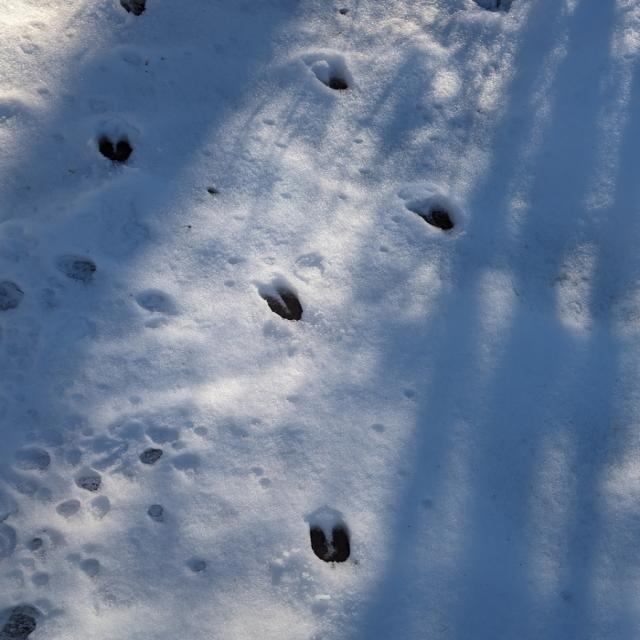deer: (397, 197, 466, 235), (304, 516, 356, 564), (252, 281, 308, 324), (302, 58, 358, 92), (90, 135, 139, 165)
